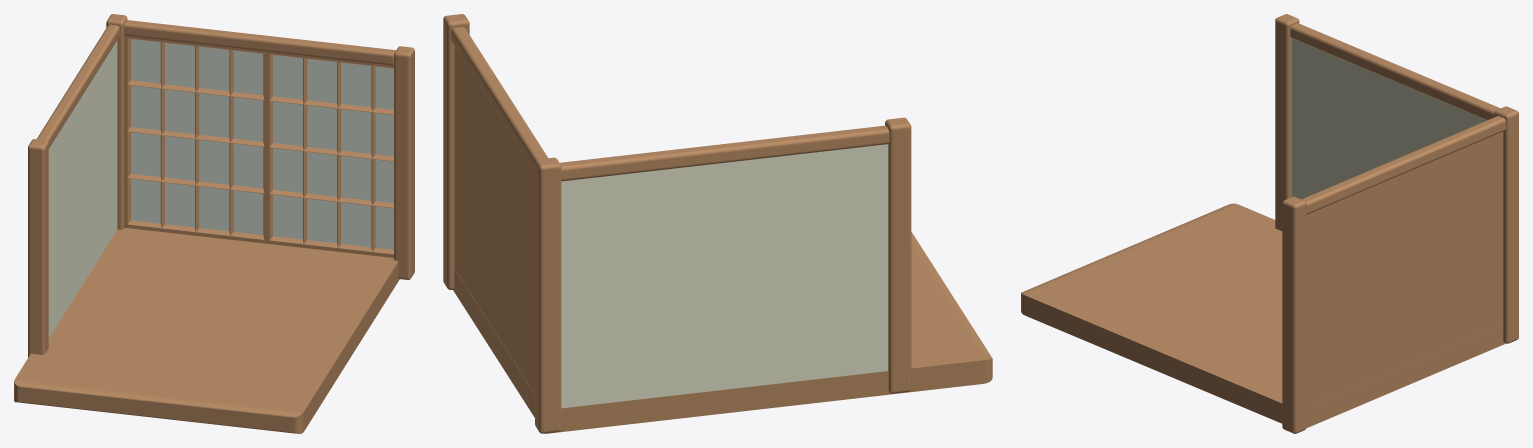
Rendered from tatami-room-test-map.glb.
3 renders of one model, left to right at view 1: azimuth 30°, elevation 25°; view 2: azimuth 150°, elevation 25°; view 3: azimuth 270°, elevation 25°, orthographic. The views are drawn at different scales.
Visible parts, largest first — view 1: BAse, Shoji.001, Shoji, Wall, Column.003, Column, Column.004, Column.005, Column.002; view 2: Wall, BAse, Shoji, Shoji.001, Column.002, Column, Column.005, Column.003, Column.004; view 3: BAse, Shoji.001, Shoji, Wall, Column.003, Column.002, Column.005, Column.004, Column.
Part boxes in pixels (left/top/right/bottom): BAse: left=14, top=228, right=399, bottom=433; Shoji.001: left=124, top=35, right=267, bottom=243; Shoji: left=266, top=51, right=393, bottom=257; Wall: left=48, top=40, right=117, bottom=338; Column.003: left=394, top=46, right=414, bottom=279; Column: left=28, top=139, right=48, bottom=357; Column.004: left=124, top=20, right=395, bottom=65; Column.005: left=37, top=24, right=119, bottom=148; Column.002: left=106, top=14, right=127, bottom=229; Wall: left=561, top=144, right=888, bottom=408; BAse: left=453, top=232, right=992, bottom=433; Shoji: left=454, top=46, right=495, bottom=331; Shoji.001: left=495, top=110, right=534, bottom=393; Column.002: left=535, top=157, right=561, bottom=433; Column: left=885, top=117, right=911, bottom=393; Column.005: left=560, top=125, right=889, bottom=181; Column.003: left=443, top=14, right=469, bottom=289; Column.004: left=451, top=27, right=547, bottom=170; BAse: left=1021, top=203, right=1505, bottom=428; Shoji.001: left=1397, top=131, right=1503, bottom=368; Shoji: left=1306, top=176, right=1397, bottom=407; Wall: left=1292, top=38, right=1486, bottom=199; Column.003: left=1282, top=196, right=1306, bottom=433; Column.002: left=1494, top=106, right=1518, bottom=343; Column.005: left=1290, top=23, right=1500, bottom=120; Column.004: left=1301, top=116, right=1505, bottom=214; Column: left=1275, top=14, right=1299, bottom=230.
Size of the model in its own units: 5.75 by 2.9 by 5.68.
